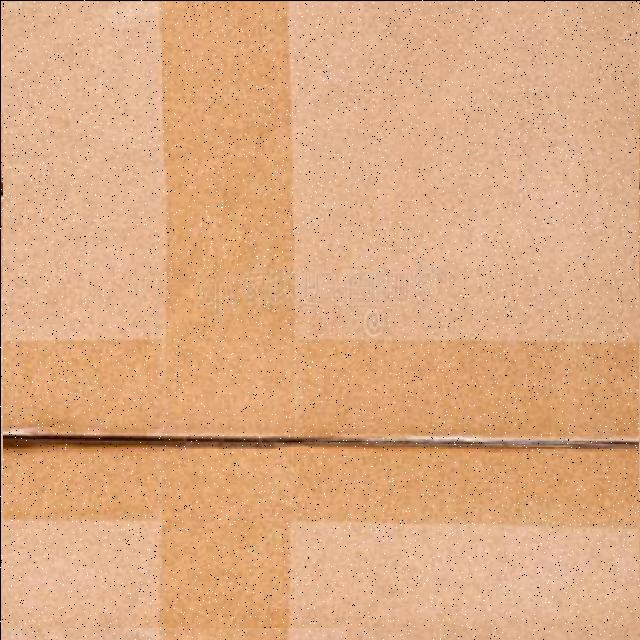normal: (2, 1, 638, 628)
